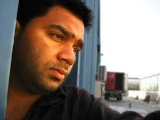male: (18, 5, 94, 100)
